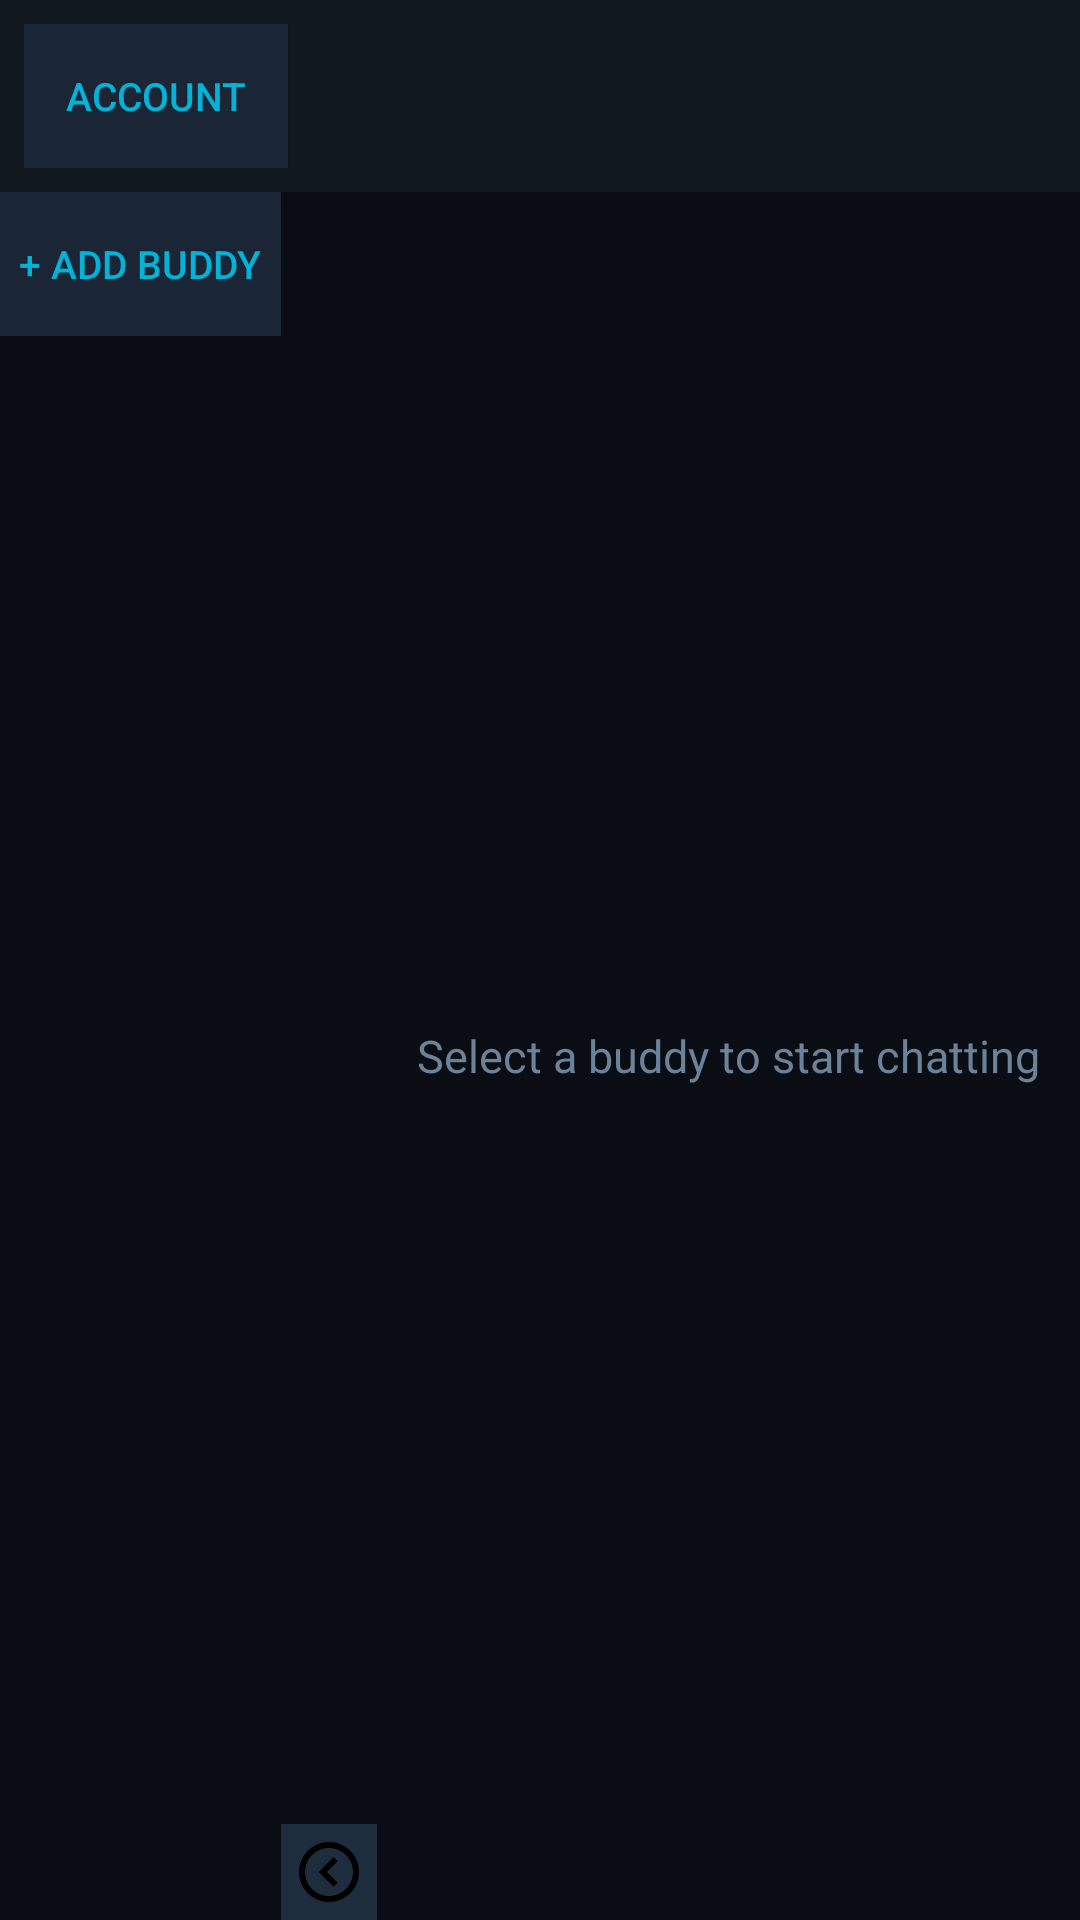

Icon bounding boxes for this 1080 x 1920 phone screenshot, format detection(x1, y1, x2, y2):
Toggle buddy panel: detection(281, 1824, 377, 1920)
